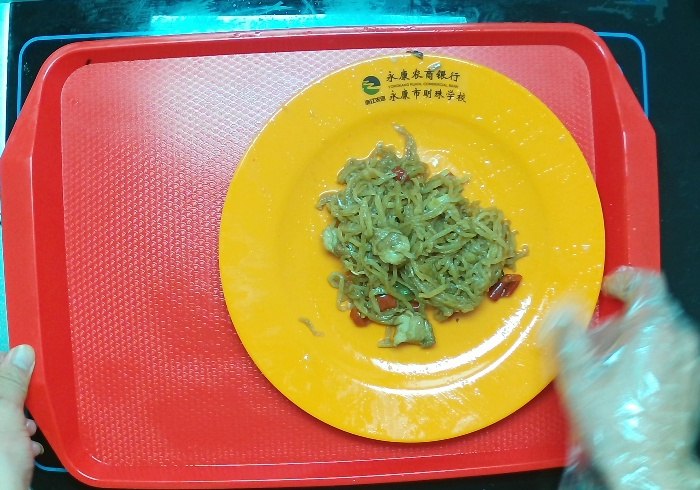YKMZ-Ju_Se_Mian_Pan: (217, 52, 606, 444)
